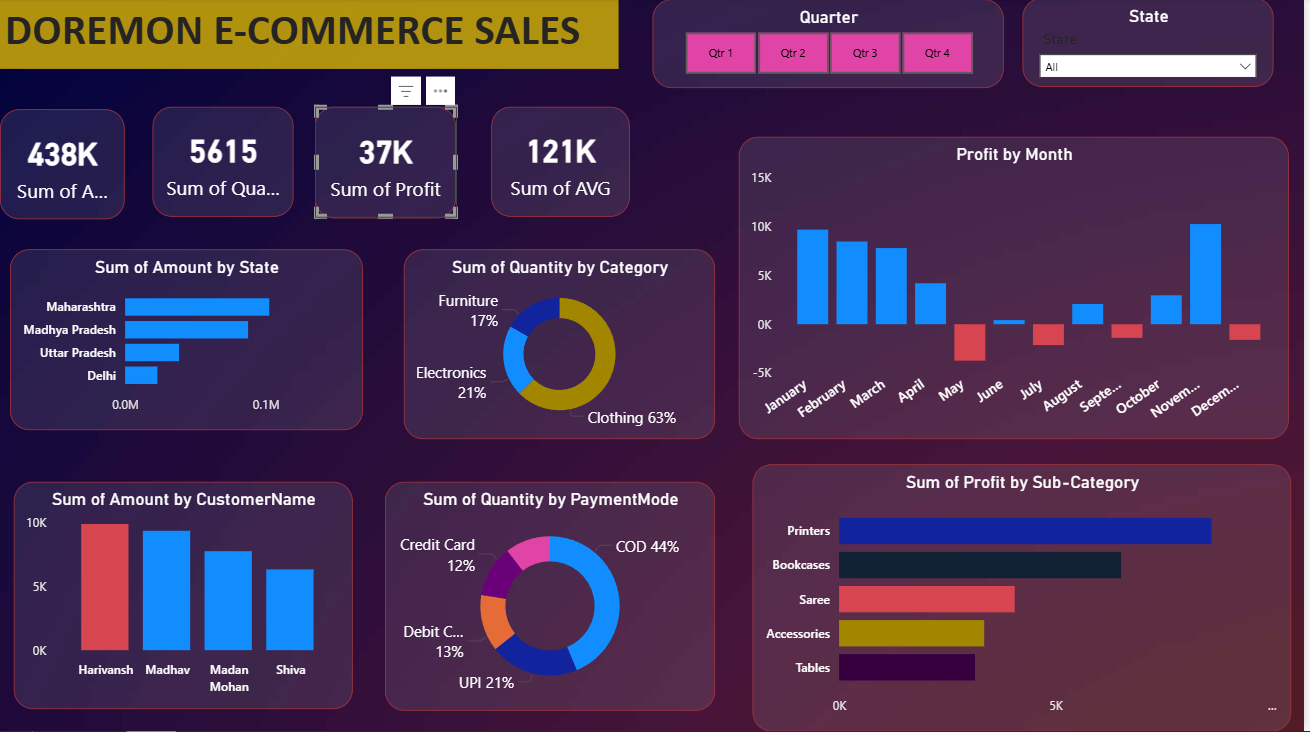

Layout of this report page (visuals, bound fields, positions):
{"tool":"powerbi","page":{"name":"Page 1","canvas":[1280,720],"ordinal":0},"visuals":[{"type":"textbox","box":[0,0,607.4,69.9],"z":0},{"type":"columnChart","title":" Profit by Month","fields":{"Category":["Orders.Order Date.Variation.Date Hierarchy.Month"],"Y":["Details.Profit"]},"box":[725.2,136.2,539.9,296.9],"z":1000},{"type":"barChart","fields":{"Category":["Details.Sub-Category"],"Y":["Details.Profit"]},"box":[738.7,457.7,528.8,262.6],"z":2000},{"type":"donutChart","fields":{"Category":["Details.Category"],"Y":["Details.Quantity"]},"box":[396.3,246.6,305.5,186.5],"z":3000},{"type":"card","fields":{"Values":["Details.Amount"]},"box":[0,109.2,122.7,108],"z":4000},{"type":"card","fields":{"Values":["Details.Quantity"]},"box":[149.7,106.7,138.7,108],"z":5000},{"type":"card","fields":{"Values":["Details.Profit"]},"box":[309.2,106.7,138.7,109.2],"z":6000},{"type":"card","fields":{"Values":["Details.AVG"]},"box":[482.2,106.7,136.2,108],"z":7000},{"type":"barChart","fields":{"Category":["Orders.State"],"Y":["Details.Amount"]},"box":[9.8,246.6,346,177.9],"z":8000},{"type":"columnChart","fields":{"Category":["Orders.CustomerName"],"Y":["Details.Amount"]},"box":[13.5,474.8,332.5,223.3],"z":9000},{"type":"slicer","title":"Quarter","fields":{"Values":["Orders.Order Date.Variation.Date Hierarchy.Quarter"]},"box":[640.5,1.2,344.8,87.1],"z":10000},{"type":"slicer","title":"State","fields":{"Values":["Orders.State"]},"box":[1003.7,0,246.6,87.1],"z":11000},{"type":"donutChart","fields":{"Y":["Details.Quantity"],"Category":["Details.PaymentMode"]},"box":[377.9,474.8,323.9,224.5],"z":12000}]}

Visuals, with their boxes in screenshot pixels (x1, y1, x2, y2), scaled from the page's 1280x720 canvas onto the 1310x732 screenshot:
textbox: [x1=0, y1=0, x2=622, y2=71]
" Profit by Month" columnChart: [x1=742, y1=138, x2=1295, y2=440]
barChart - Details.Sub-Category x Details.Profit: [x1=756, y1=465, x2=1297, y2=731]
donutChart - Details.Category x Details.Quantity: [x1=406, y1=251, x2=718, y2=440]
card - Details.Amount: [x1=0, y1=111, x2=126, y2=221]
card - Details.Quantity: [x1=153, y1=108, x2=295, y2=218]
card - Details.Profit: [x1=316, y1=108, x2=458, y2=219]
card - Details.AVG: [x1=494, y1=108, x2=633, y2=218]
barChart - Orders.State x Details.Amount: [x1=10, y1=251, x2=364, y2=432]
columnChart - Orders.CustomerName x Details.Amount: [x1=14, y1=483, x2=354, y2=710]
"Quarter" slicer: [x1=656, y1=1, x2=1008, y2=90]
"State" slicer: [x1=1027, y1=0, x2=1280, y2=89]
donutChart - Details.Quantity x Details.PaymentMode: [x1=387, y1=483, x2=718, y2=711]
